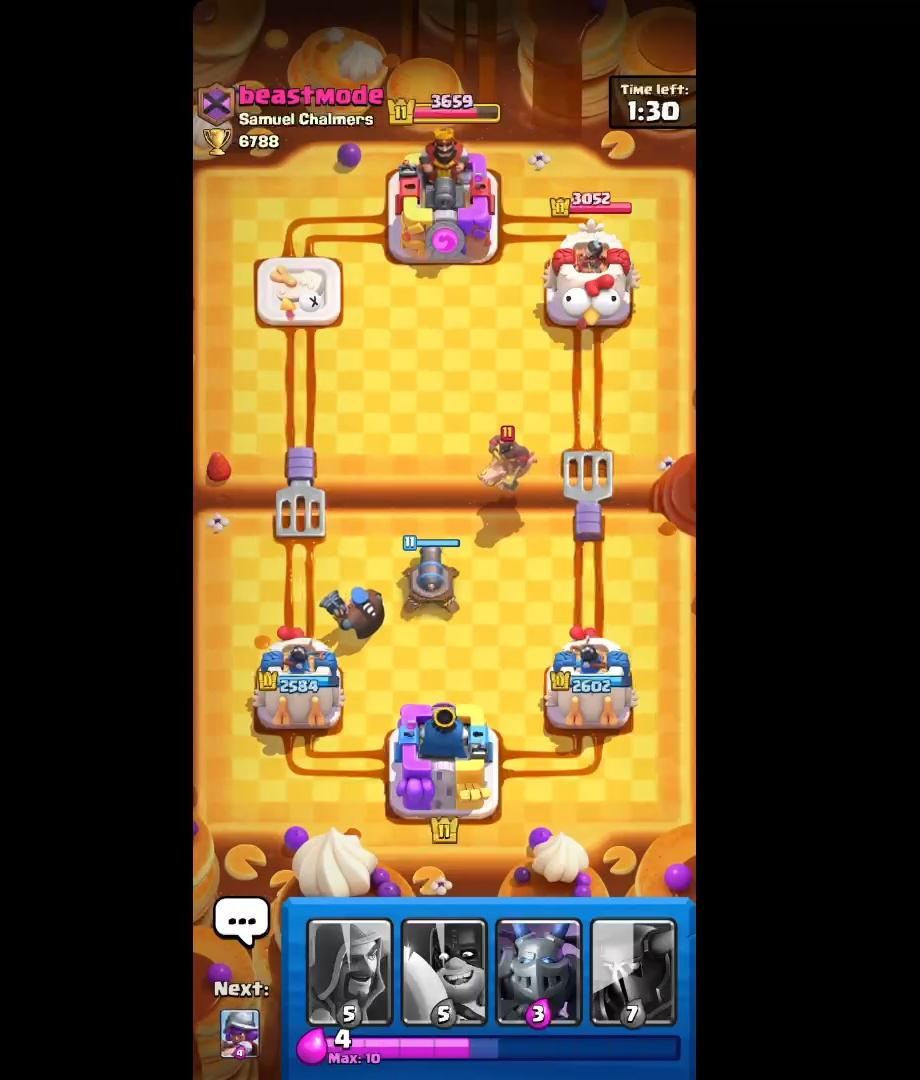Hog Rider: (476, 417, 542, 490)
